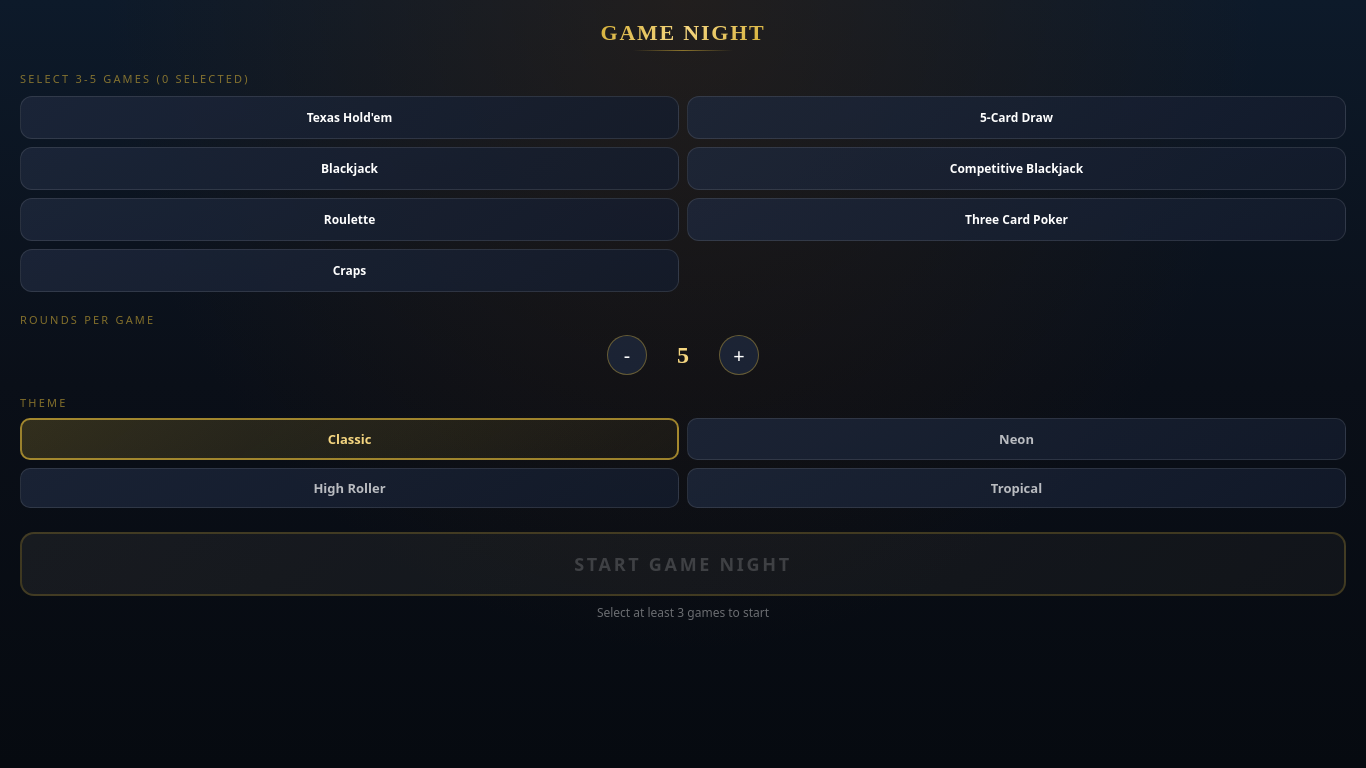
Test: GameNightSetupController › decrements rounds per game
The width and height of the screenshot is (1366, 768).
Click the button with test id "gn-rounds-minus": (627, 355) [607,335,647,375]
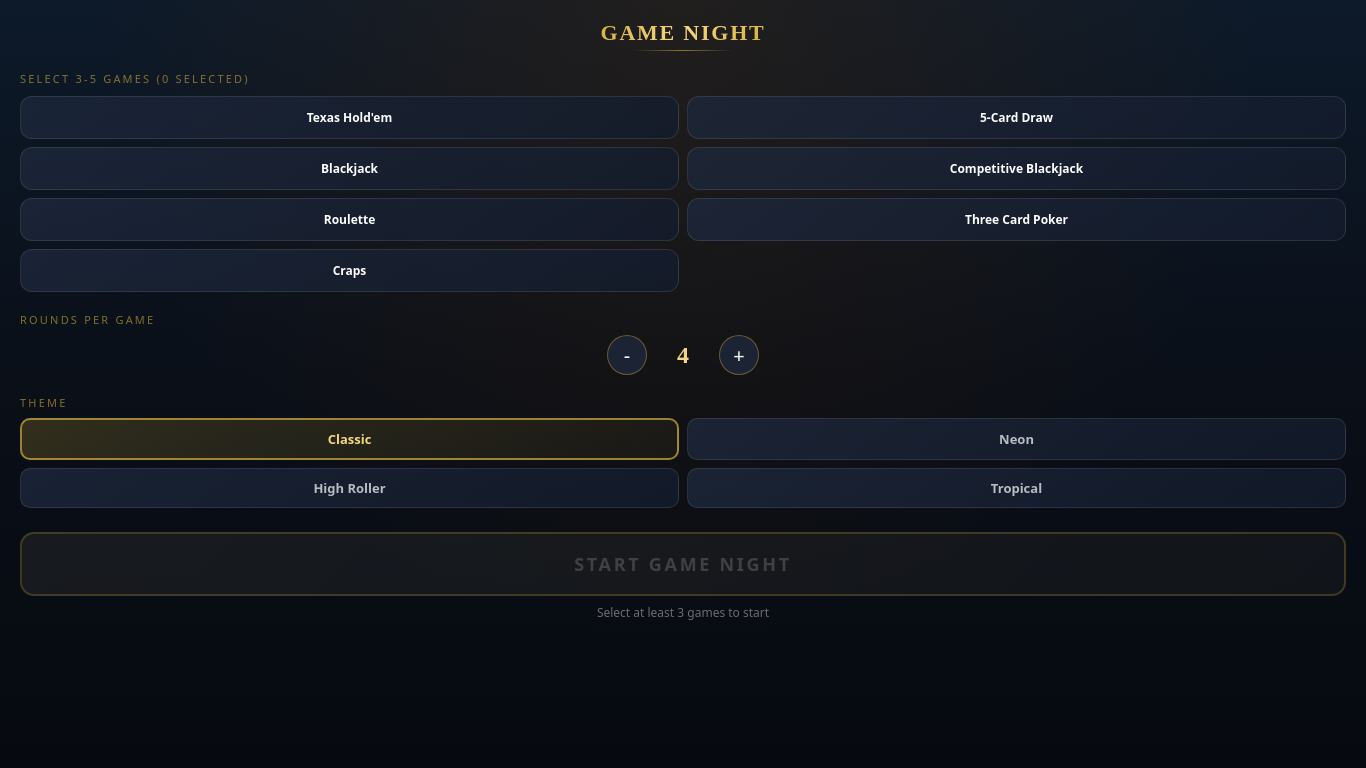
expect the text with test id "gn-rounds-value" reads "4": met, box [677,342,689,368]
